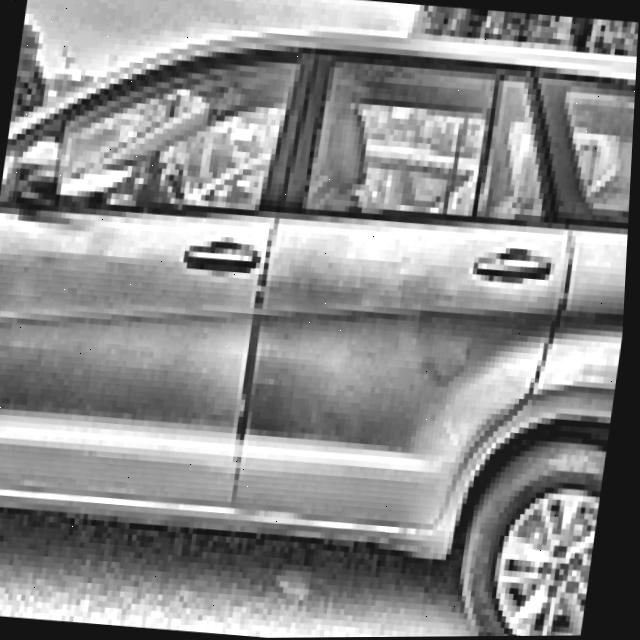light_vehicle: (0, 3, 640, 640)
